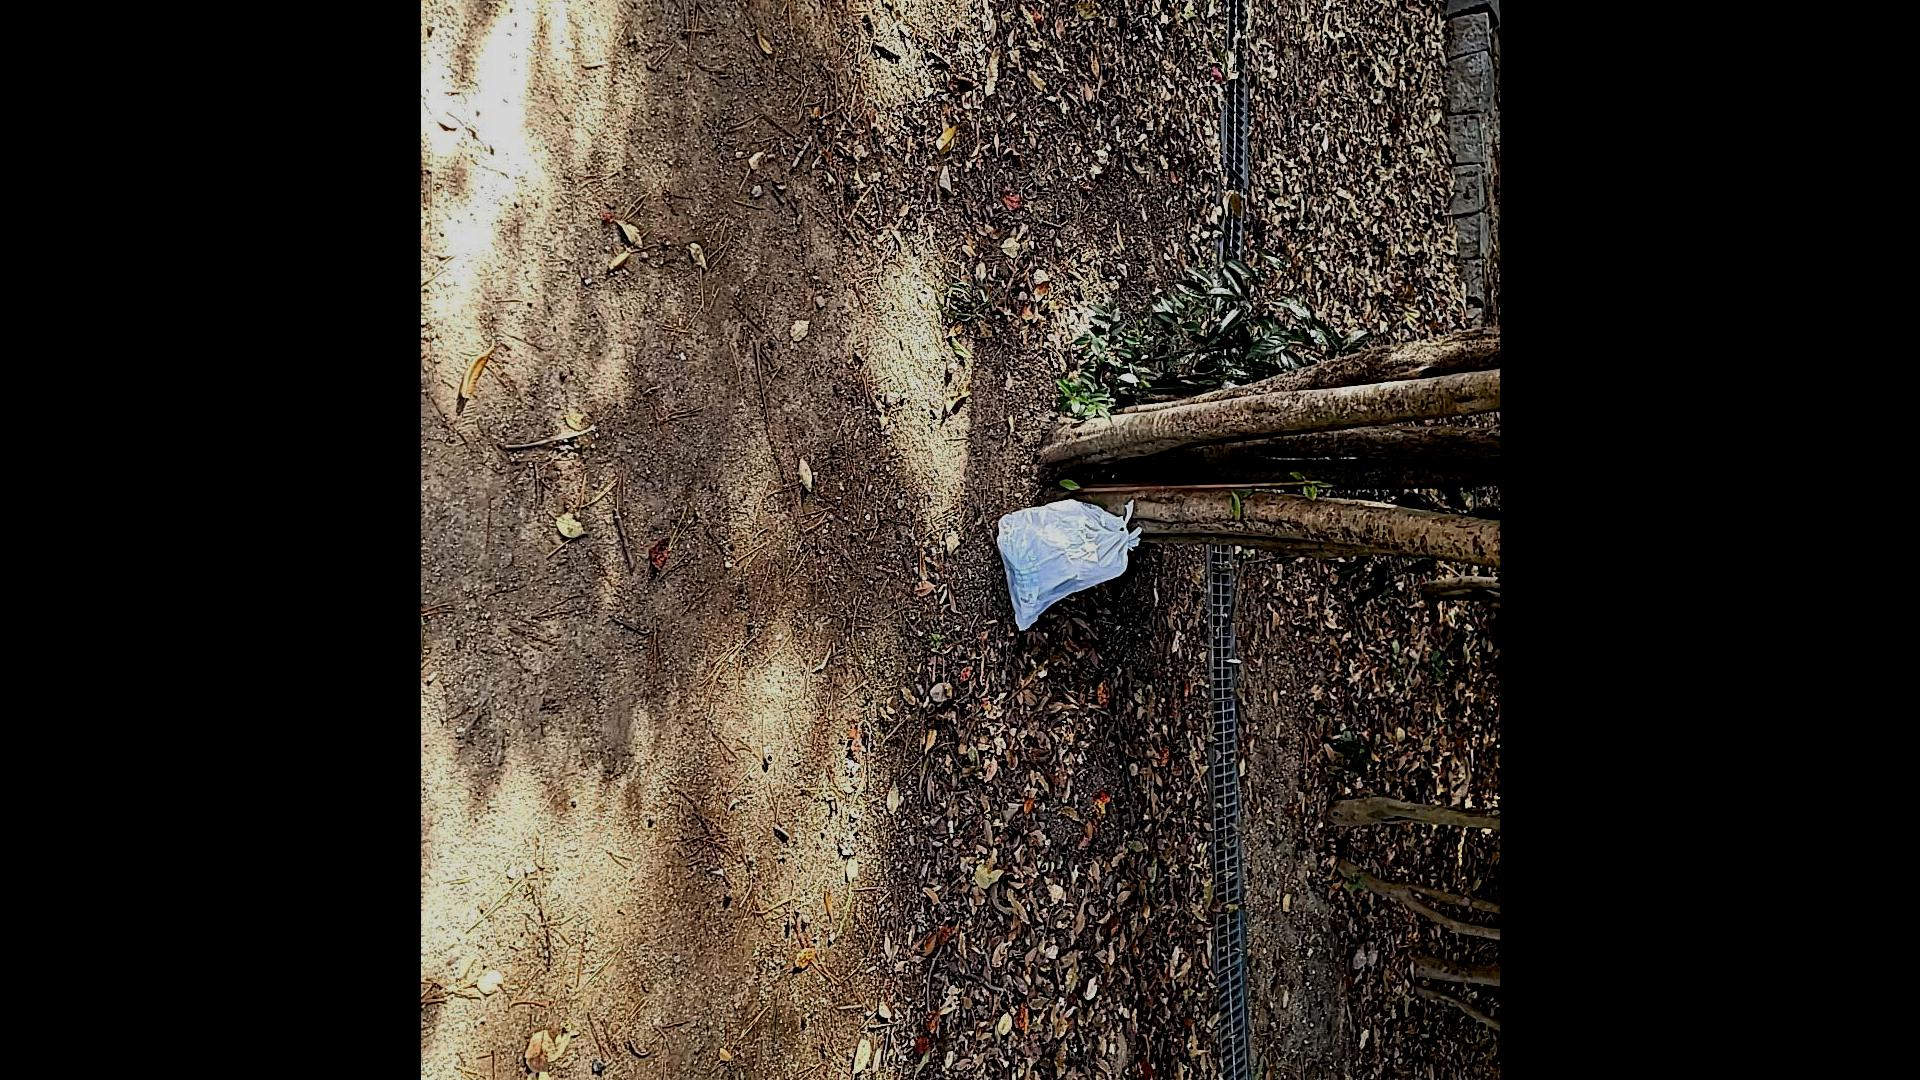white_bag: (992, 489, 1146, 636)
